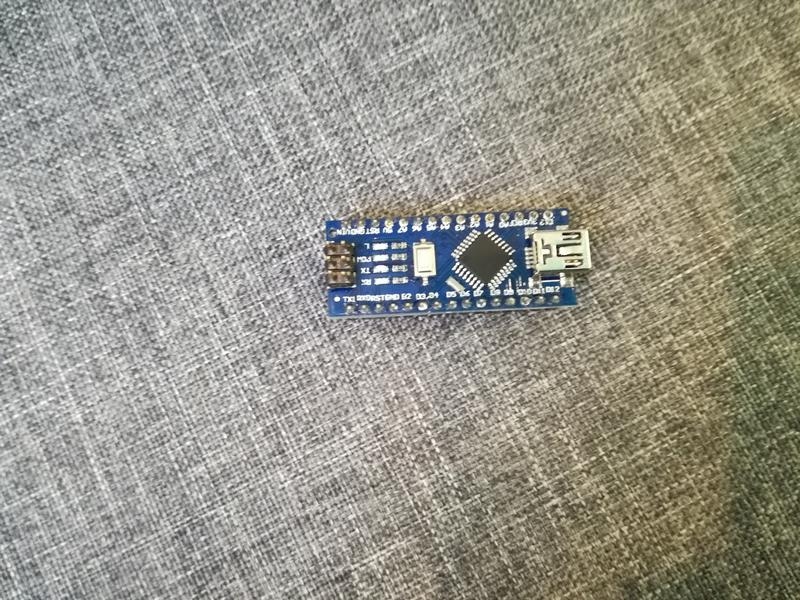Arduino_Nano: (314, 205, 596, 329)
